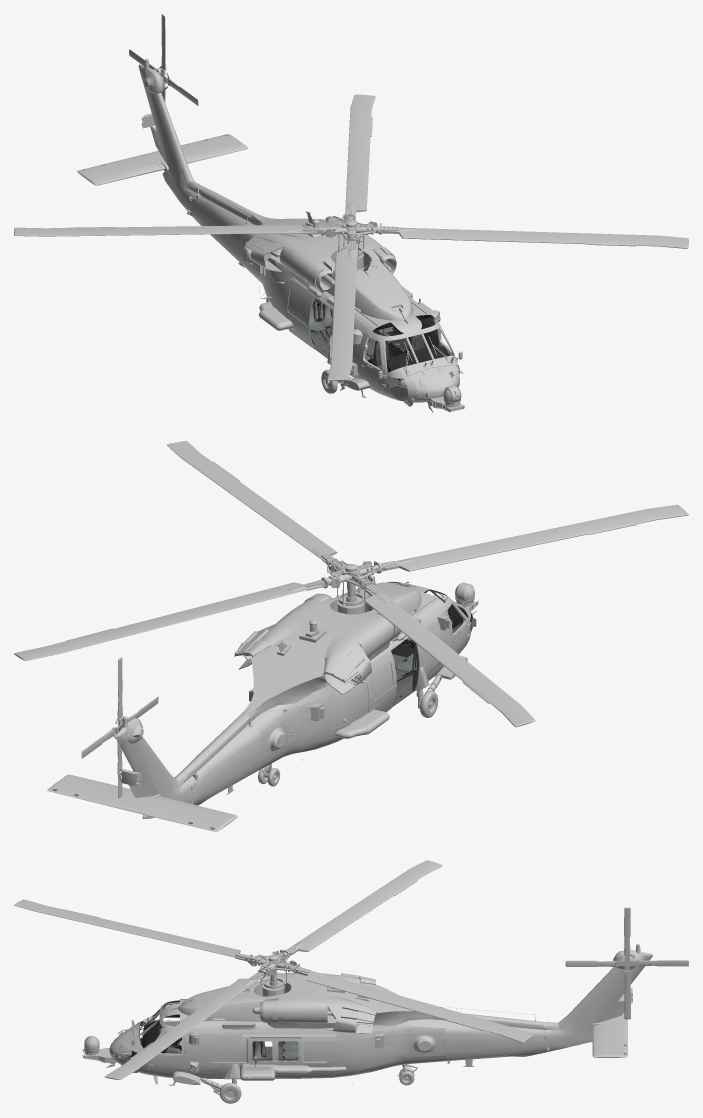
The model's file is HelicopteroBueno.fbx.
The picture shows the model from 3 angles, top to bottom: view 1: azimuth 30°, elevation 25°; view 2: azimuth 150°, elevation 25°; view 3: azimuth 270°, elevation 25°; orthographic projection. The views are drawn at different scales.
Parts seen in each view (by area): view 1: Object_20, Object_9, Object_21, Object_12, Object_13, Object_16, Object_18, Object_22, Object_17, Object_19, Object_2, Object_5 (+4 smaller); view 2: Object_20, Object_9, Object_12, Object_16, Object_22, Object_21, Object_13, Object_18, Object_17, Object_8, Object_2, Object_11 (+3 smaller); view 3: Object_9, Object_21, Object_19, Object_20, Object_13, Object_16, Object_18, Object_22, Object_12, Object_10, Object_17, Object_5 (+6 smaller).
Boxes of the visible parts, box(x1,y1,x2,y2) form: Object_20: box(188, 192, 687, 388); Object_9: box(187, 185, 459, 391); Object_21: box(285, 221, 688, 386); Object_12: box(77, 69, 463, 412); Object_13: box(138, 62, 459, 404); Object_16: box(334, 94, 385, 387); Object_18: box(129, 49, 463, 406); Object_22: box(14, 225, 356, 247); Object_17: box(155, 14, 462, 386); Object_19: box(187, 195, 459, 403); Object_2: box(309, 298, 459, 400); Object_5: box(311, 301, 449, 372); Object_20: box(167, 441, 688, 805); Object_9: box(180, 581, 470, 803); Object_12: box(47, 589, 477, 831); Object_16: box(14, 562, 469, 660); Object_22: box(356, 561, 535, 727); Object_21: box(167, 441, 410, 605); Object_13: box(116, 592, 468, 818); Object_18: box(81, 585, 472, 770); Object_17: box(113, 577, 476, 797); Object_8: box(184, 582, 469, 803); Object_2: box(387, 581, 472, 706); Object_11: box(119, 578, 478, 794); Object_9: box(127, 973, 547, 1084); Object_21: box(104, 942, 445, 1079); Object_19: box(109, 1008, 547, 1084); Object_20: box(14, 899, 548, 1079); Object_13: box(85, 947, 652, 1095); Object_16: box(149, 954, 532, 1064); Object_18: box(110, 938, 688, 1073); Object_22: box(237, 860, 442, 965); Object_12: box(82, 951, 649, 1084); Object_10: box(109, 972, 547, 1080); Object_17: box(147, 907, 637, 1069); Object_5: box(126, 1020, 298, 1066).
Size of the model in its own units: 168955 by 64733 by 219634.
